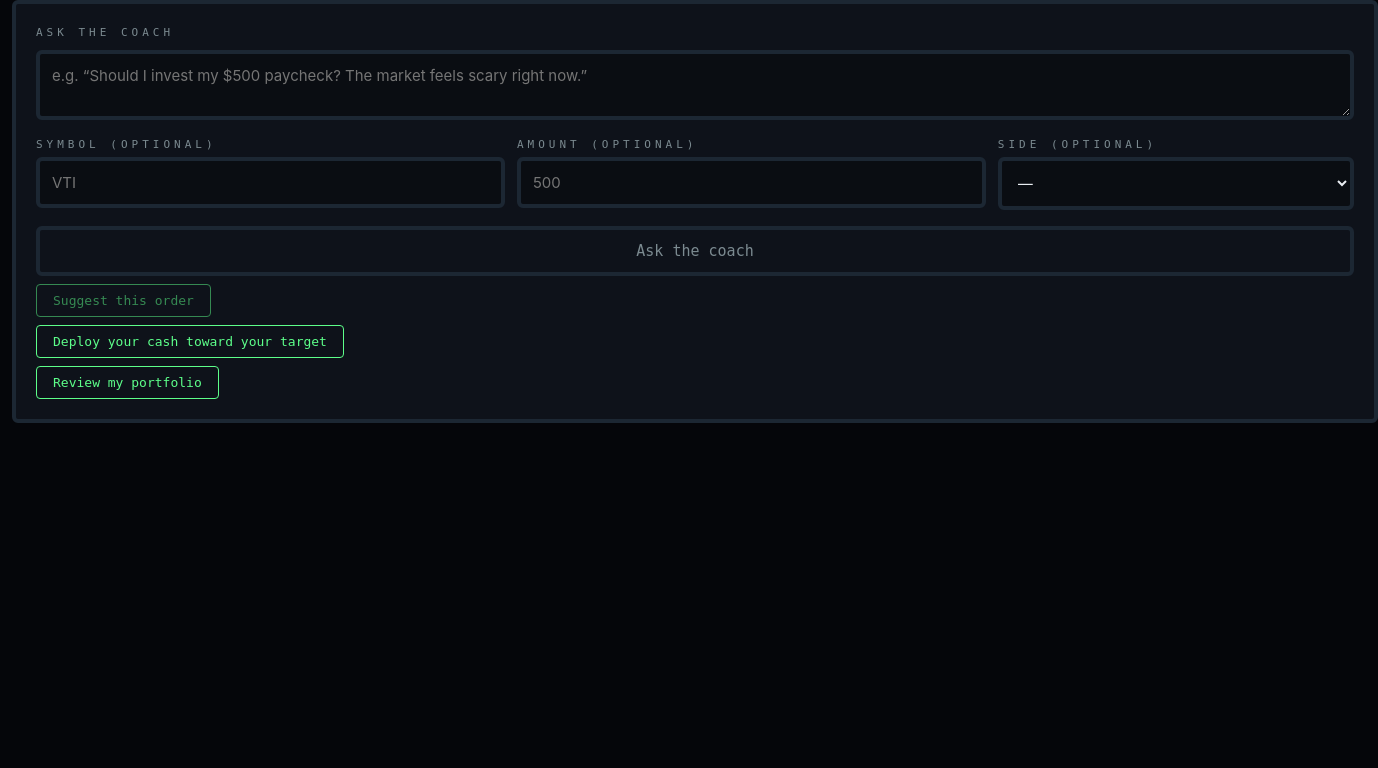
it: CoachConsult — live propose → approve/decline › question-only + default plan → recommendation renders, NO approve control
The width and height of the screenshot is (1378, 768).
Replace the text in the text box with test id "coach-ask-input" with "Should I be worried about the market right now?": (695, 85) [36,50,1354,120]
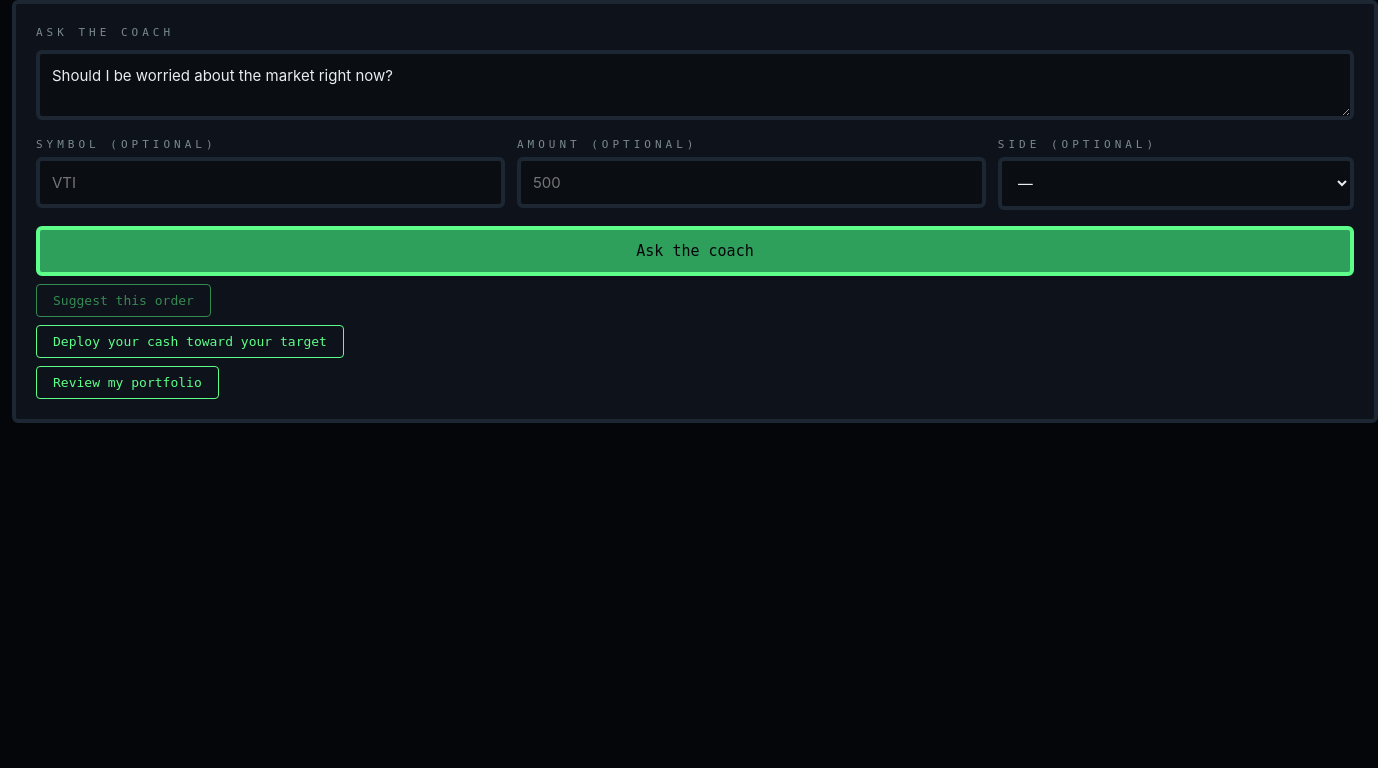
Check: the button with test id "coach-ask-submit" is enabled
Click the button with test id "coach-ask-submit": (695, 251) [36,226,1354,276]
(page scrolled)
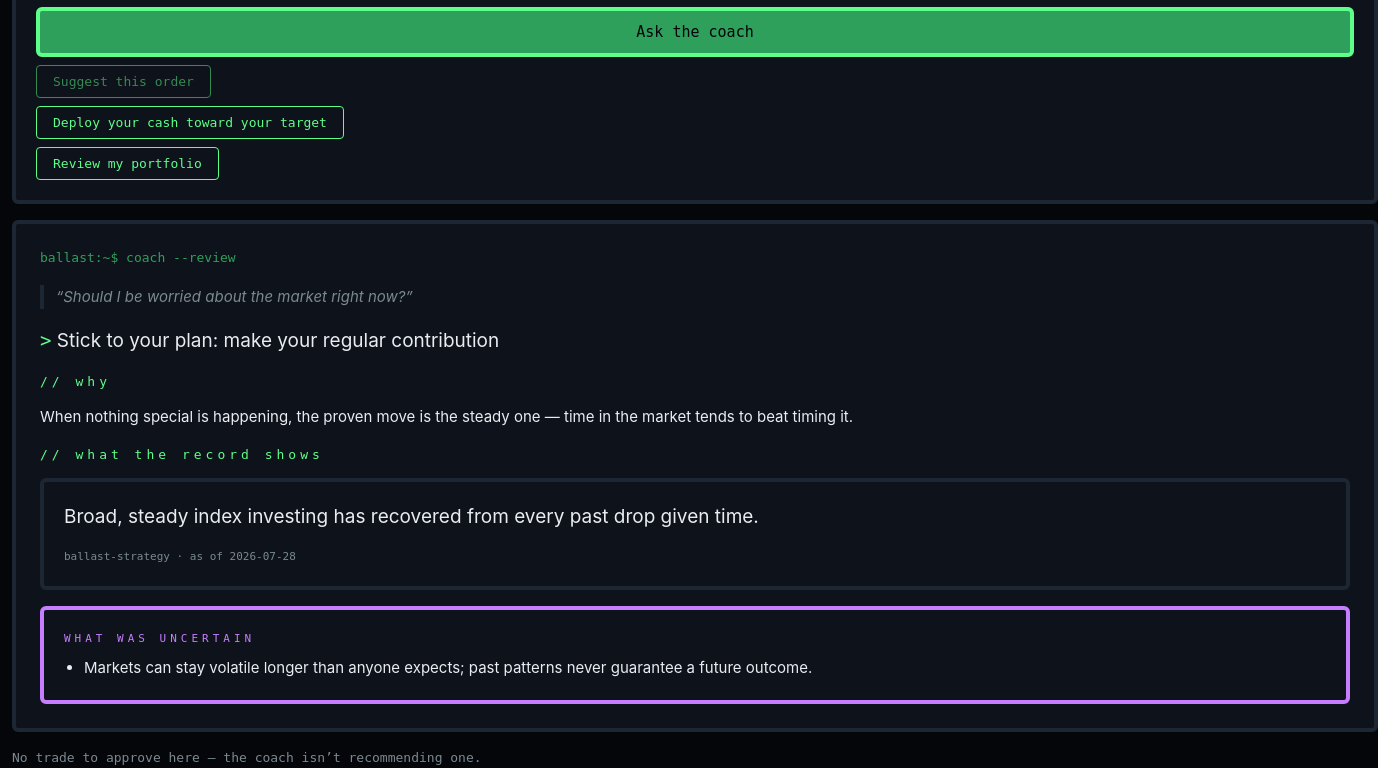
Check: the element with test id "coach-card" is shown
Check: the element with test id "coach-card-action" shows "Stick to your plan", box [57,329,499,352]
Check: the text "No trade to approve here — the coach isn’t recommending one." is shown, box [12,750,482,764]
